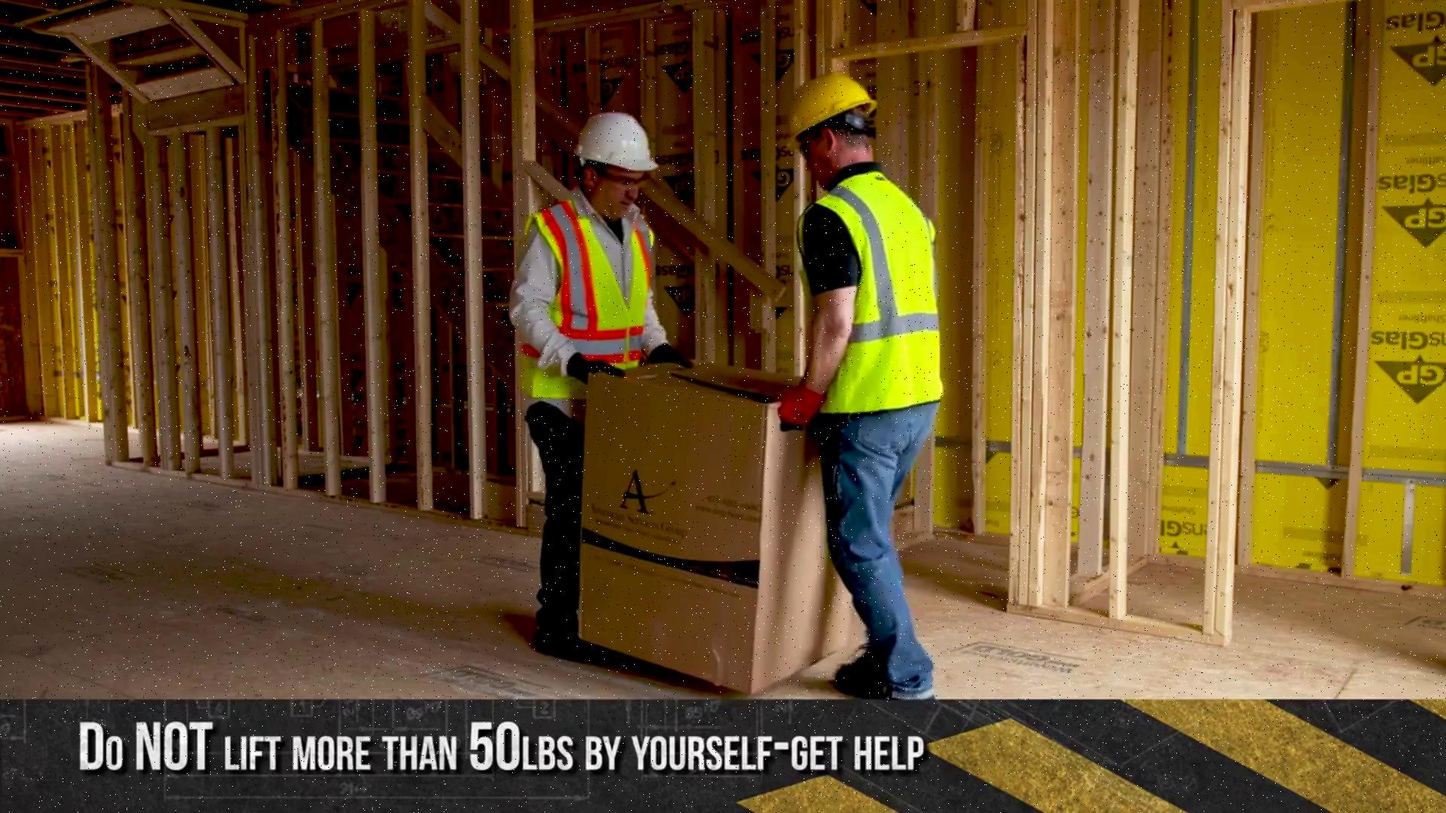Hard_hat: (771, 73, 873, 143), (573, 108, 658, 169)
Person: (772, 72, 946, 690), (516, 105, 682, 658)
Vest: (534, 199, 662, 403)
